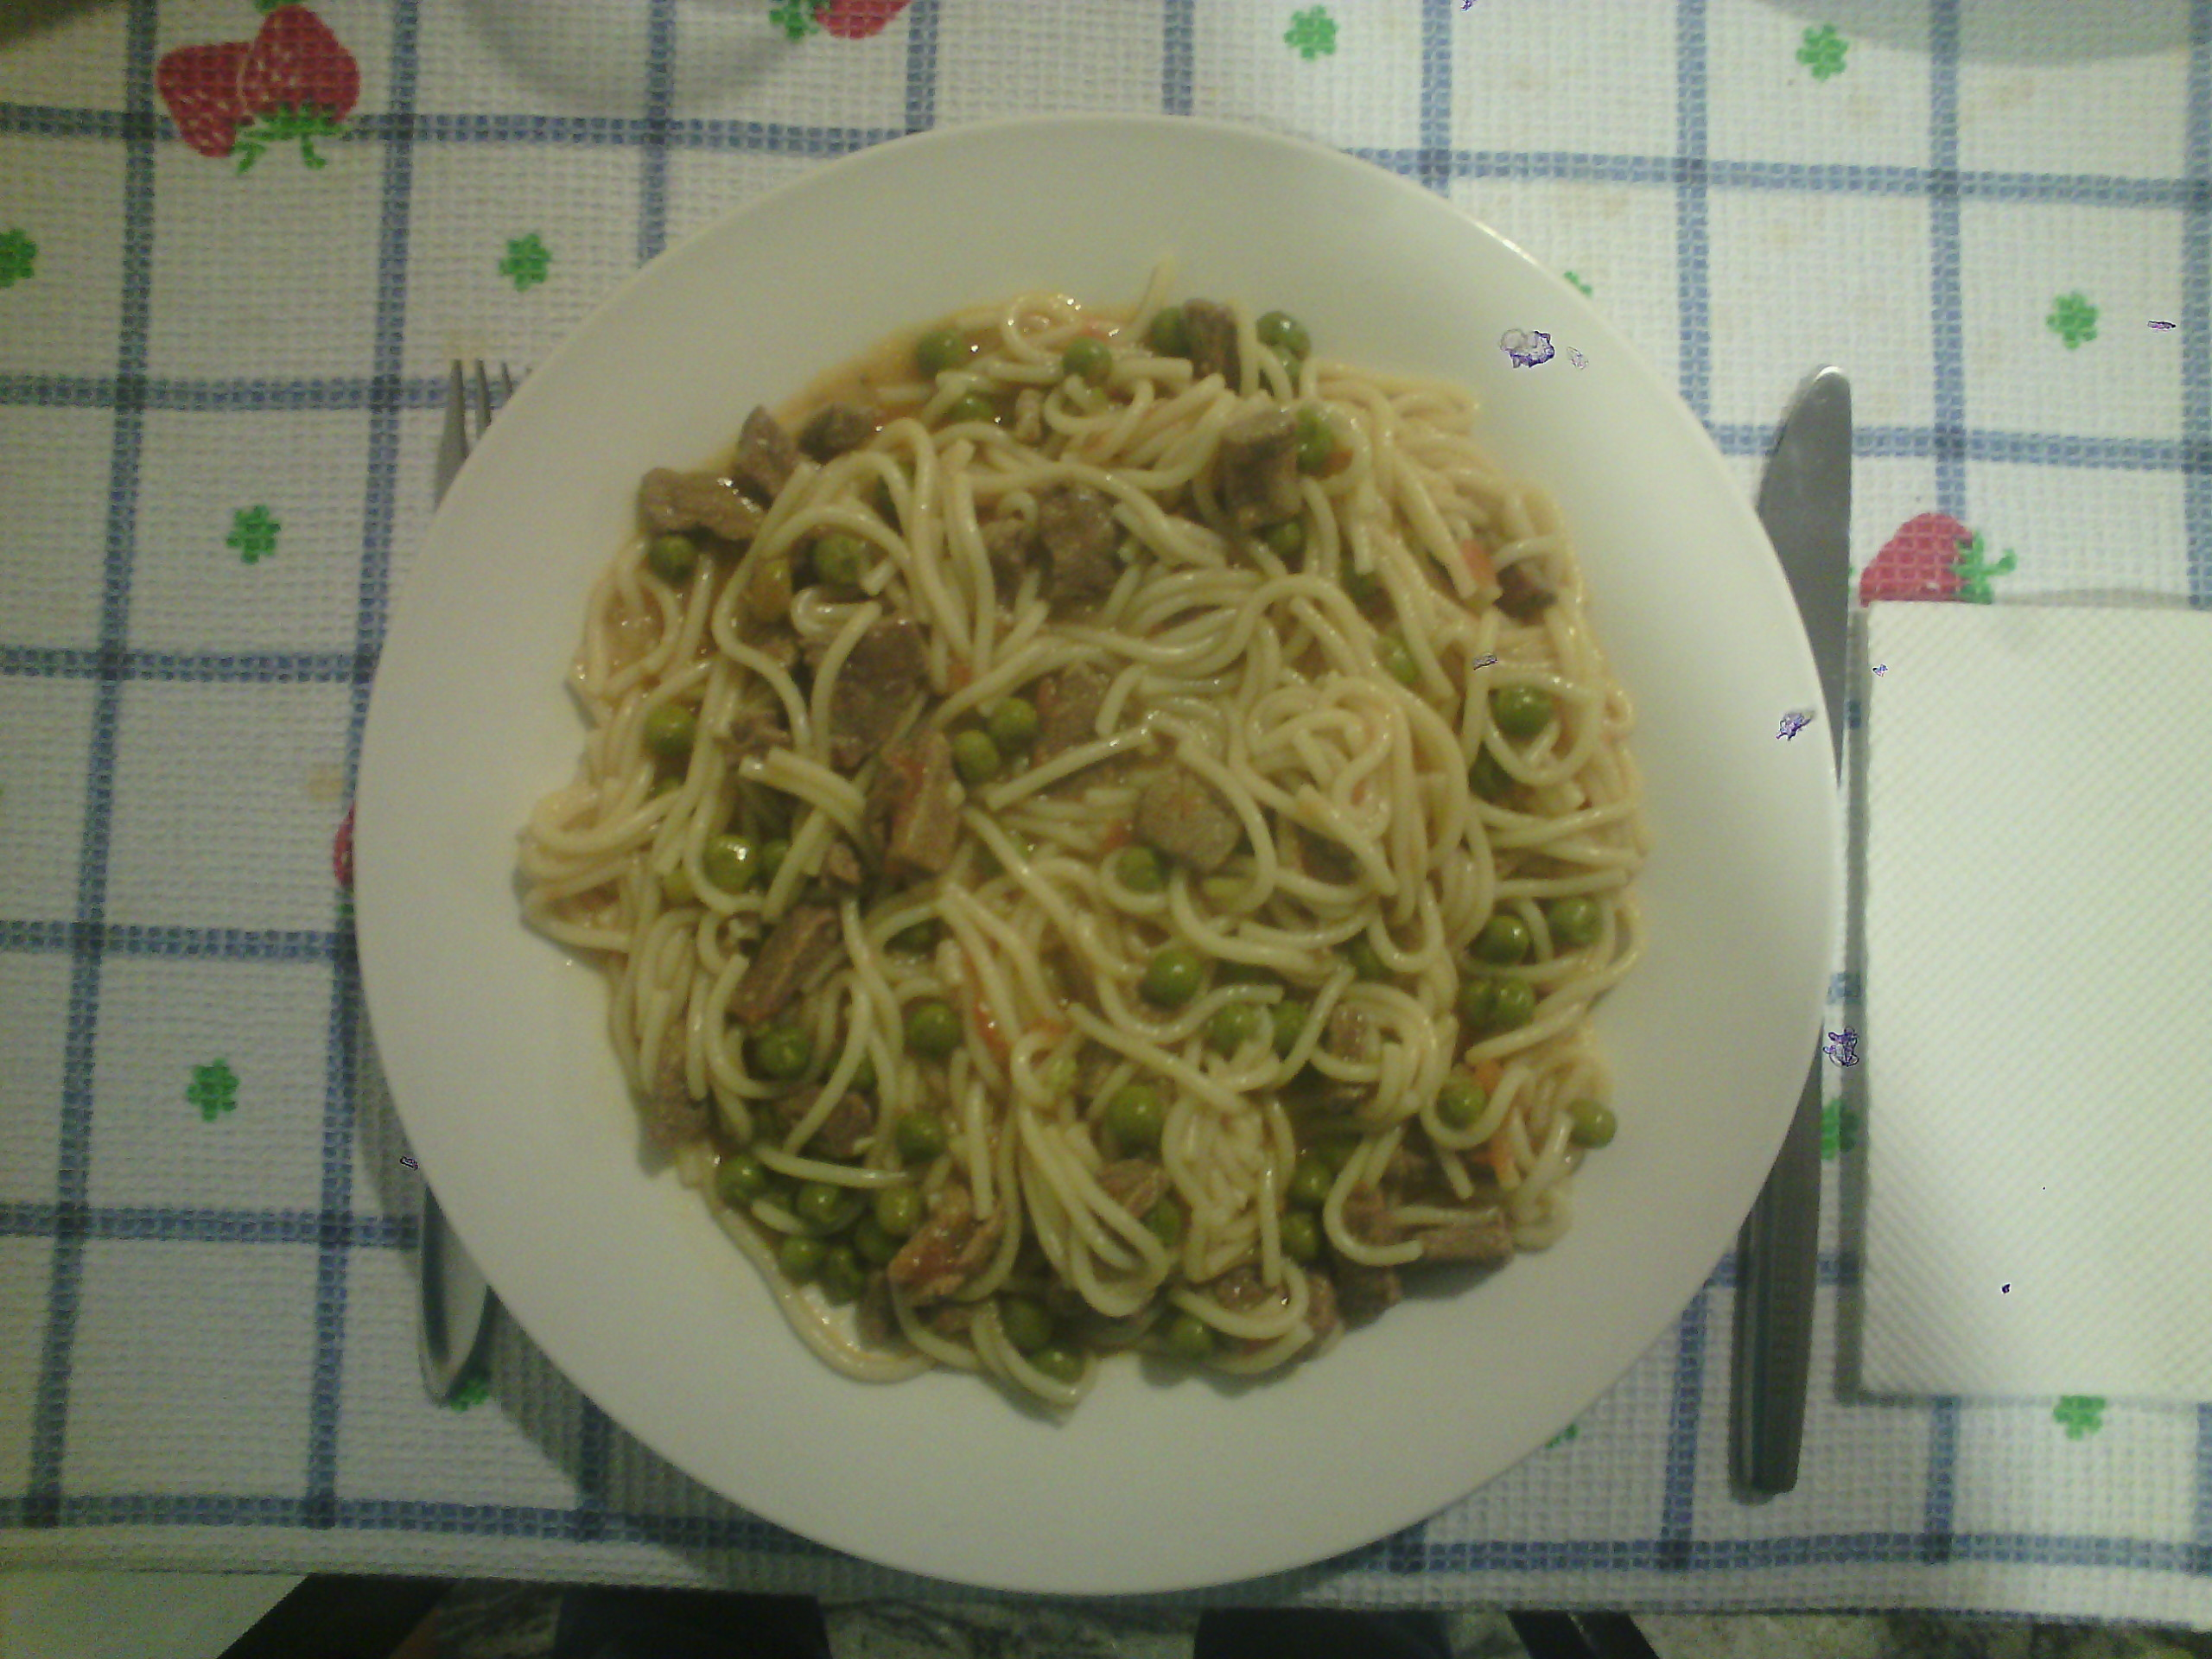81-100: (338, 113, 1844, 1603)
